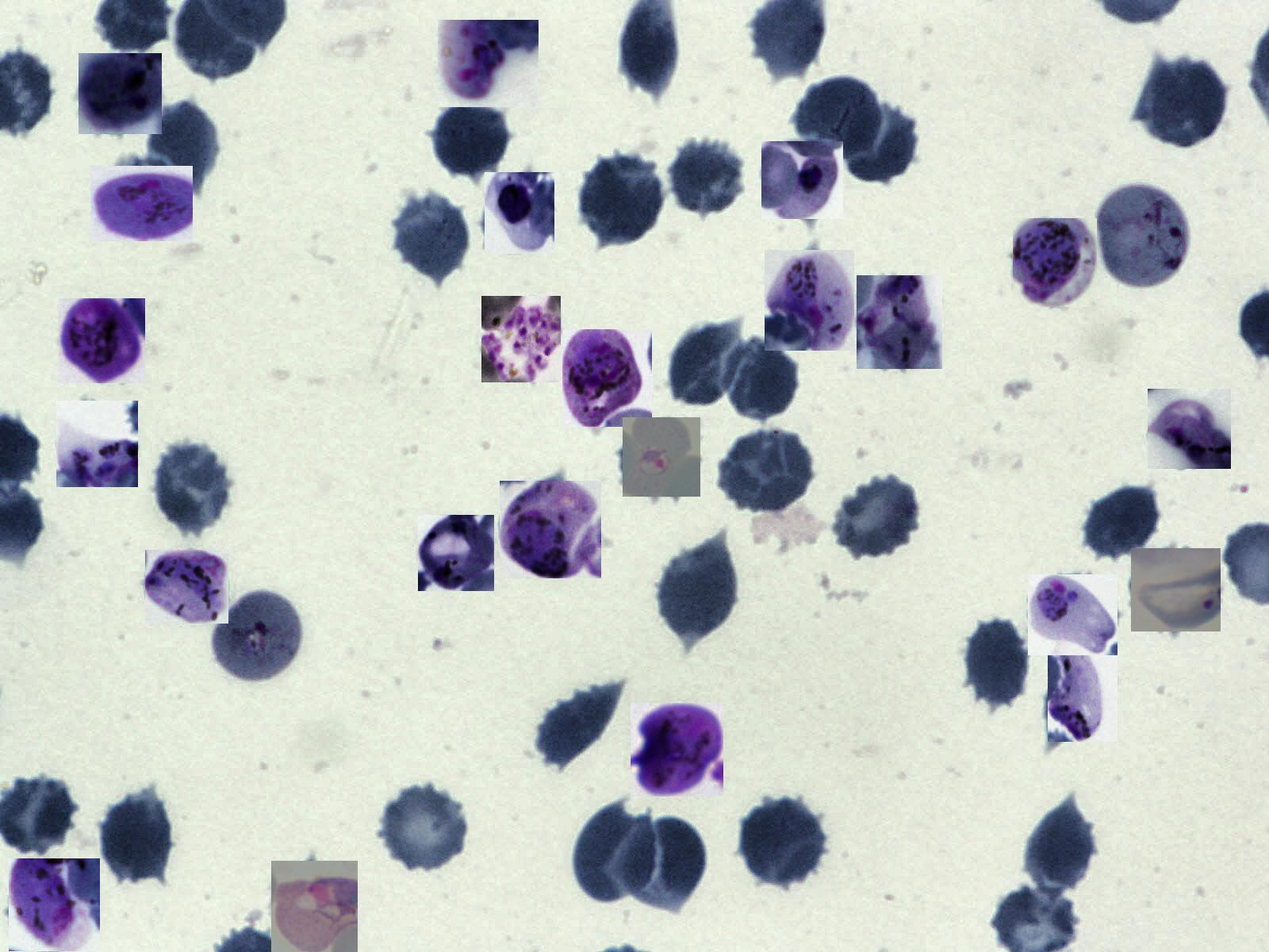Infected: (1095, 181, 1188, 290), (500, 481, 601, 578), (765, 250, 854, 351), (211, 588, 304, 684), (562, 329, 652, 427), (438, 20, 539, 107), (631, 703, 723, 797), (9, 858, 100, 951), (857, 275, 942, 369), (271, 861, 358, 952), (90, 166, 193, 241), (1013, 218, 1097, 307), (1131, 548, 1221, 631), (59, 298, 145, 383), (1028, 574, 1118, 655), (56, 401, 138, 487), (481, 297, 561, 383), (79, 53, 162, 134), (1148, 389, 1231, 469), (762, 141, 843, 219), (623, 417, 700, 497), (145, 550, 228, 624), (1048, 655, 1118, 742), (418, 515, 494, 591), (485, 172, 554, 254)
Uninfected: (657, 536, 743, 643), (378, 781, 471, 872), (570, 807, 657, 904), (624, 816, 709, 911), (720, 431, 816, 514), (832, 98, 927, 181), (151, 440, 233, 536), (831, 472, 920, 559), (579, 155, 665, 242), (738, 798, 826, 882), (1144, 58, 1228, 145), (1025, 794, 1095, 897), (101, 789, 174, 885), (539, 687, 624, 769), (668, 318, 745, 408), (148, 101, 224, 192), (798, 76, 884, 155), (396, 193, 470, 279), (668, 137, 747, 217), (1080, 479, 1153, 563), (965, 617, 1031, 709), (435, 98, 511, 177), (728, 336, 799, 419)
